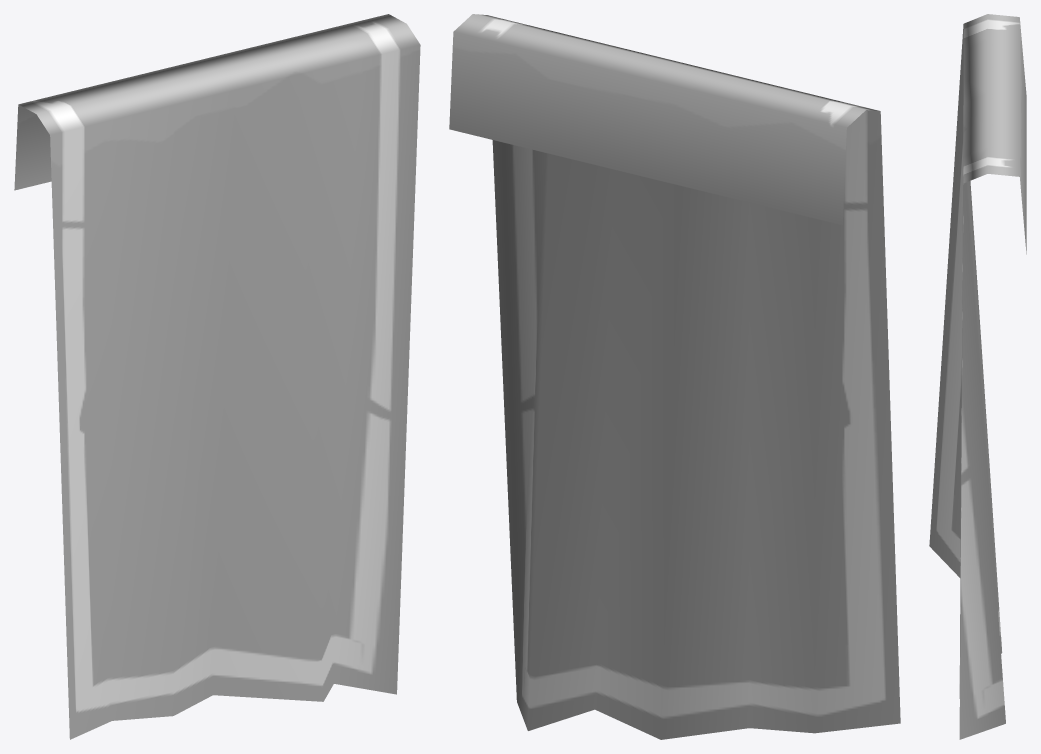
File: BannerWall2.fbx
3 views of the same model, side by side, from view 1: azimuth 30°, elevation 25°; view 2: azimuth 150°, elevation 25°; view 3: azimuth 270°, elevation 25° (orthographic). The views are drawn at different scales.
Parts seen in each view (by area): view 1: BannerWall2; view 2: BannerWall2; view 3: BannerWall2.
Part boxes in pixels (x1,y1,x2,y2): BannerWall2: (14, 14, 420, 739); BannerWall2: (449, 14, 900, 739); BannerWall2: (929, 14, 1026, 739).
Size of the model in its own units: 546 by 919 by 140.
